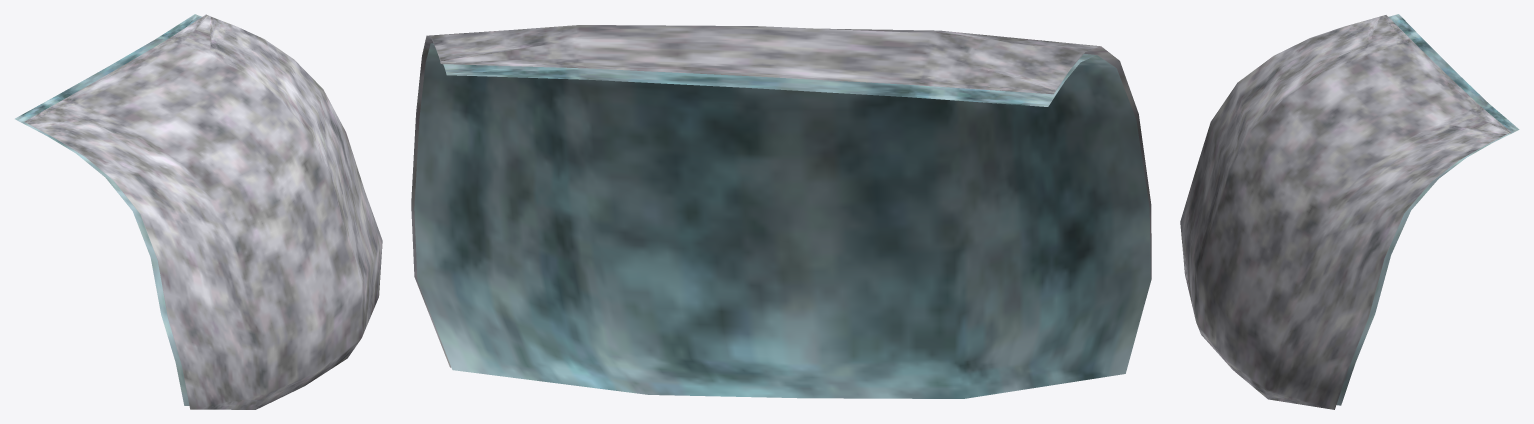
Rendered from CB_NEWPLAYSURFACE_CB_WATERFALLS01.fbx.
3 views of the same model, side by side, from view 1: azimuth 30°, elevation 25°; view 2: azimuth 150°, elevation 25°; view 3: azimuth 270°, elevation 25° (orthographic). The views are drawn at different scales.
Parts seen in each view (by area): view 1: CB_NEWPLAYSURFACE_CB_WATERFALLS01; view 2: CB_NEWPLAYSURFACE_CB_WATERFALLS01; view 3: CB_NEWPLAYSURFACE_CB_WATERFALLS01.
Boxes of the visible parts, bbox=[...] form: CB_NEWPLAYSURFACE_CB_WATERFALLS01: bbox=[15, 14, 382, 409]; CB_NEWPLAYSURFACE_CB_WATERFALLS01: bbox=[411, 25, 1151, 398]; CB_NEWPLAYSURFACE_CB_WATERFALLS01: bbox=[1180, 14, 1519, 409].
Size of the model in its own units: 77562 by 55930 by 66733.
2 materials, 2 textured.
